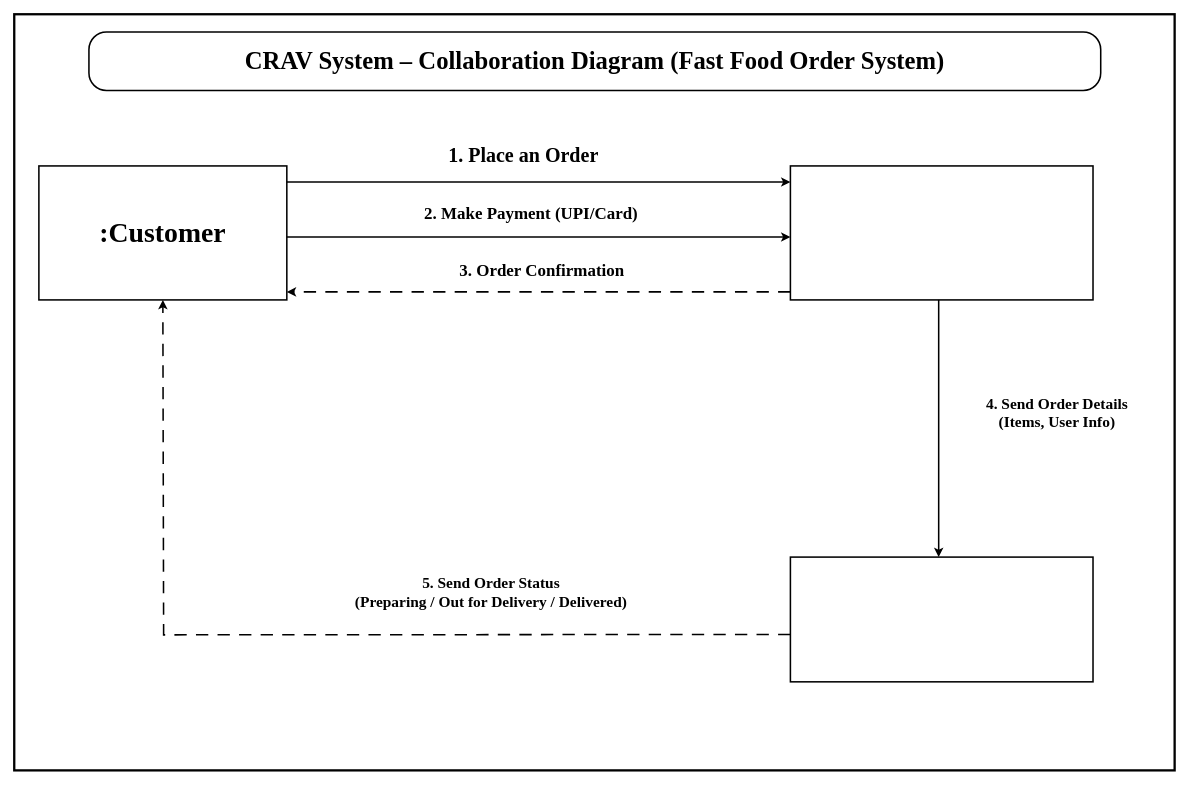
Some shapes in this 1189 by 785 pixel diagram are drawn without their labels. Each missing label, with the centre of its shape:
":Backend Server (API)" goes at point (941, 619).
":CRAV Web App (Frontend)" goes at point (941, 232).
